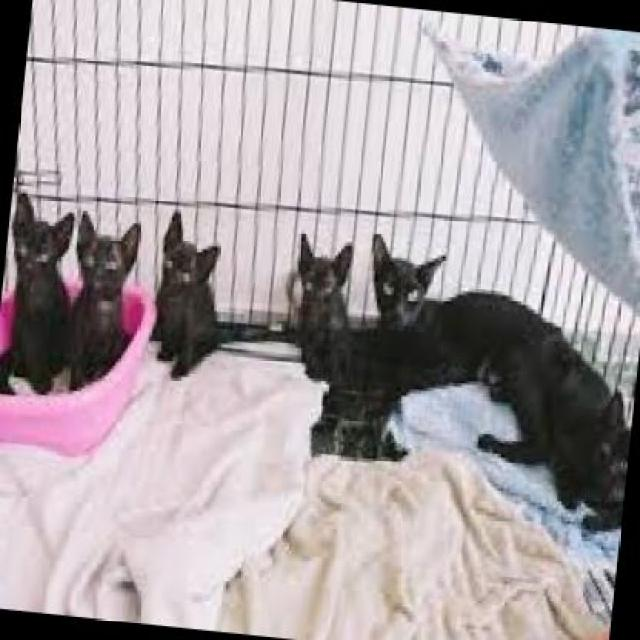animals: (357, 222, 548, 408), (481, 324, 637, 539), (139, 206, 272, 391), (0, 188, 82, 404), (63, 206, 146, 400), (277, 226, 363, 374)
